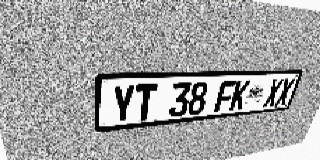3: (168, 82, 192, 117)
8: (186, 81, 210, 116)
F: (214, 80, 236, 113)
K: (229, 80, 251, 111)
T: (134, 83, 158, 121)
X: (262, 79, 284, 107), (274, 78, 296, 106)
Y: (111, 84, 135, 124)
